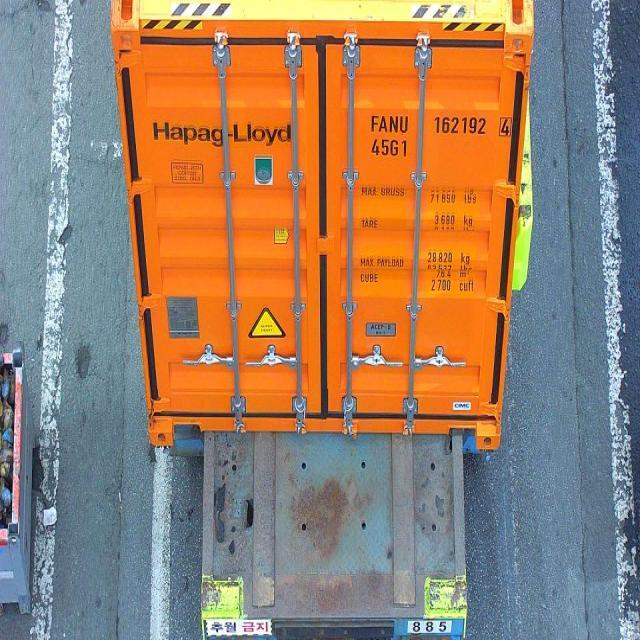ISO: (370, 111, 512, 137), (369, 134, 411, 156)
